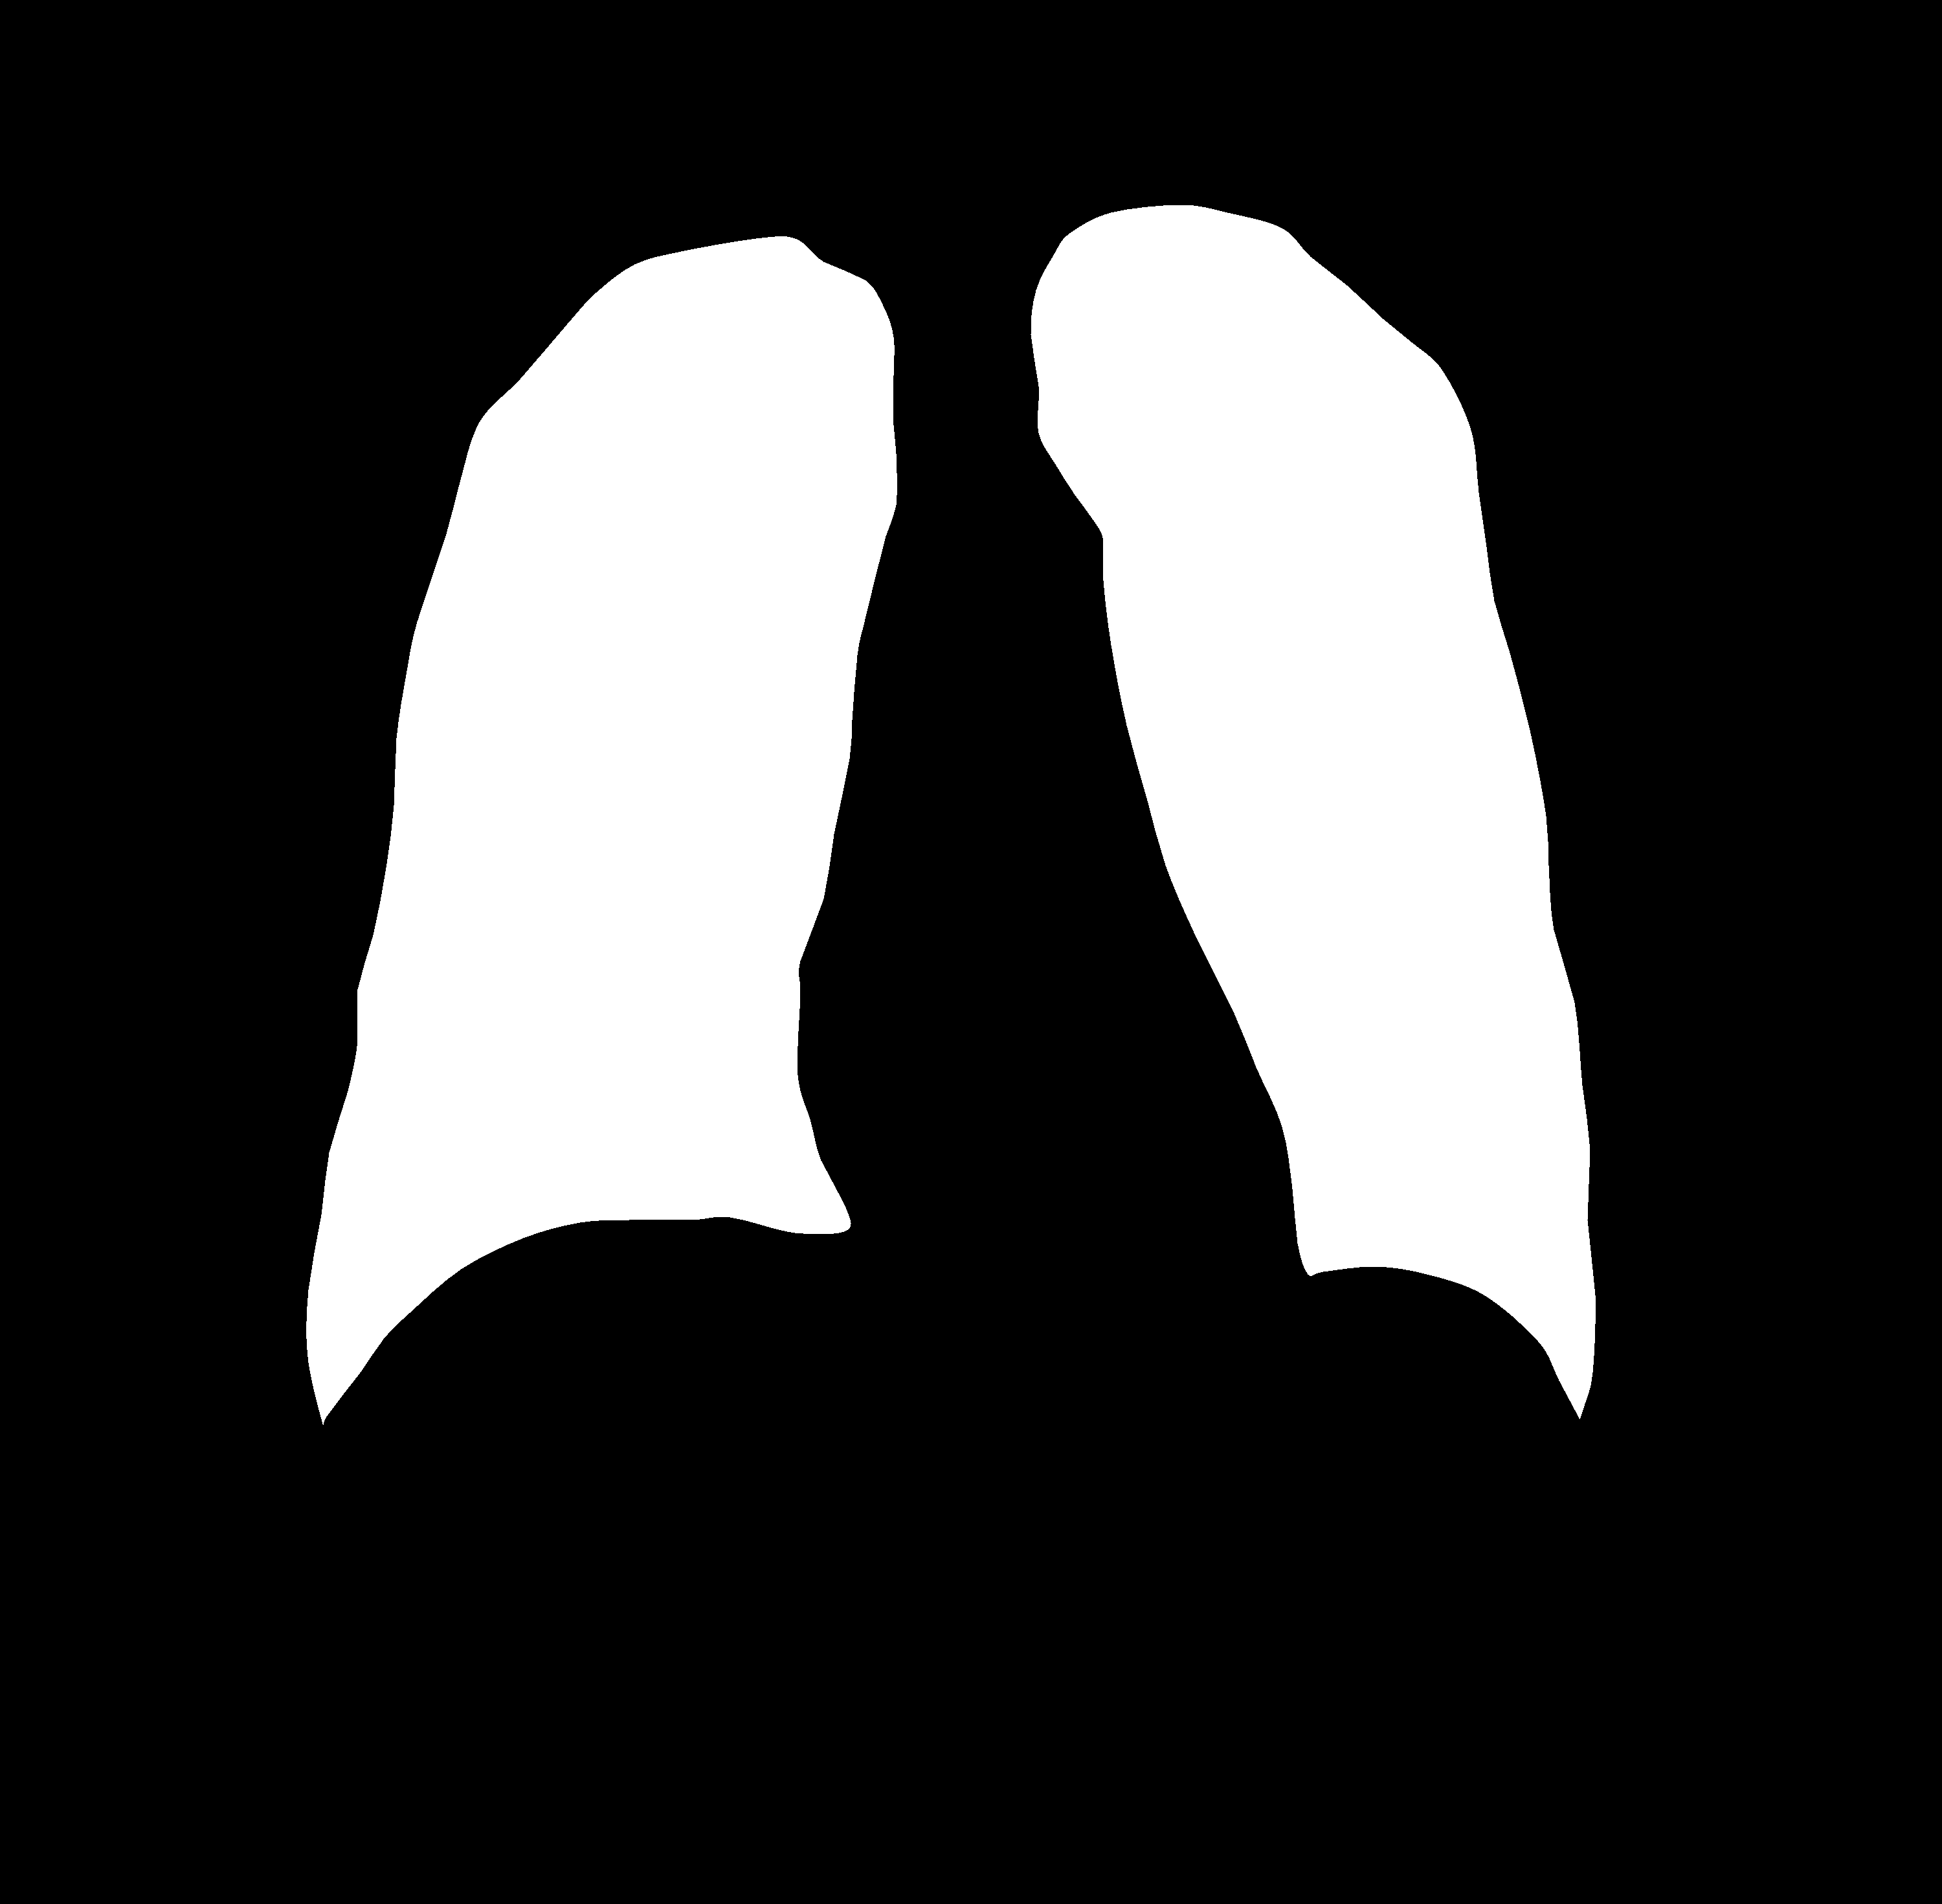heart: (791, 882, 1297, 1289)
left_lung: (307, 237, 896, 1425)
right_lung: (1030, 206, 1595, 1419)
